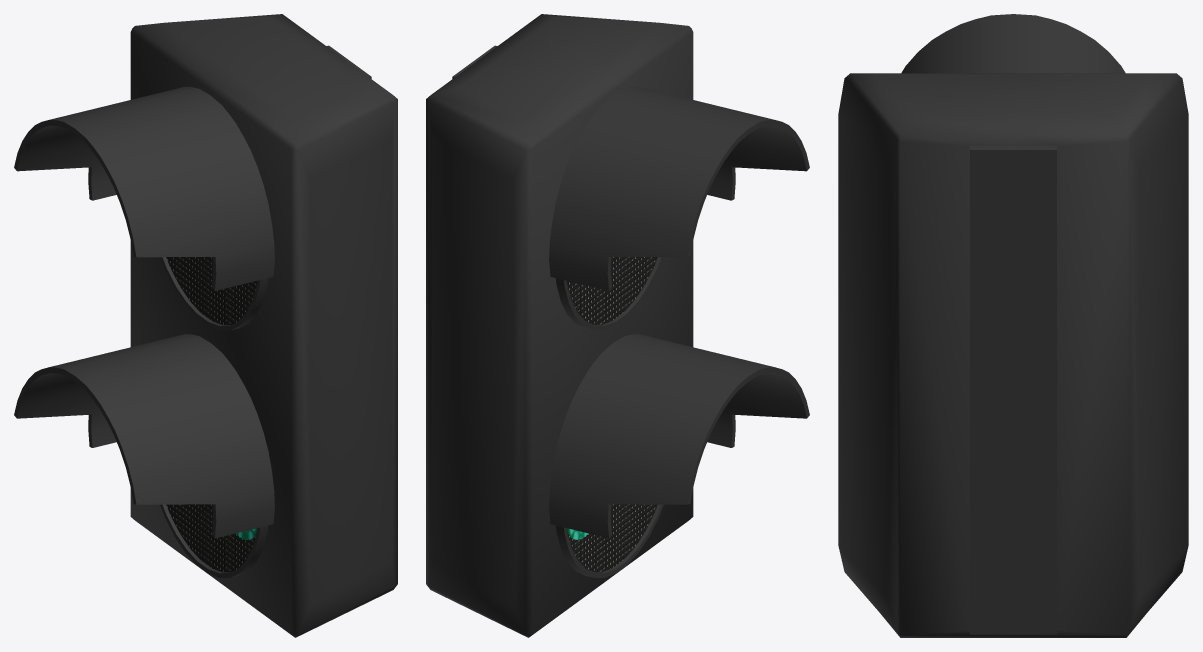
Rendered from 单车指示灯_GreenLight.fbx.
3 views of the same model, side by side, from view 1: azimuth 30°, elevation 25°; view 2: azimuth 150°, elevation 25°; view 3: azimuth 270°, elevation 25° (orthographic).
Visible parts, largest first — view 1: 单车指示灯_GreenLight; view 2: 单车指示灯_GreenLight; view 3: 单车指示灯_GreenLight.
Boxes of the visible parts, x1=… form: 单车指示灯_GreenLight: x1=14, y1=14, x2=397, y2=637; 单车指示灯_GreenLight: x1=426, y1=14, x2=809, y2=637; 单车指示灯_GreenLight: x1=838, y1=14, x2=1188, y2=637.
Size of the model in its own units: 0.6 by 1.06 by 0.65.
Materials: 3 (2 with a texture image).
